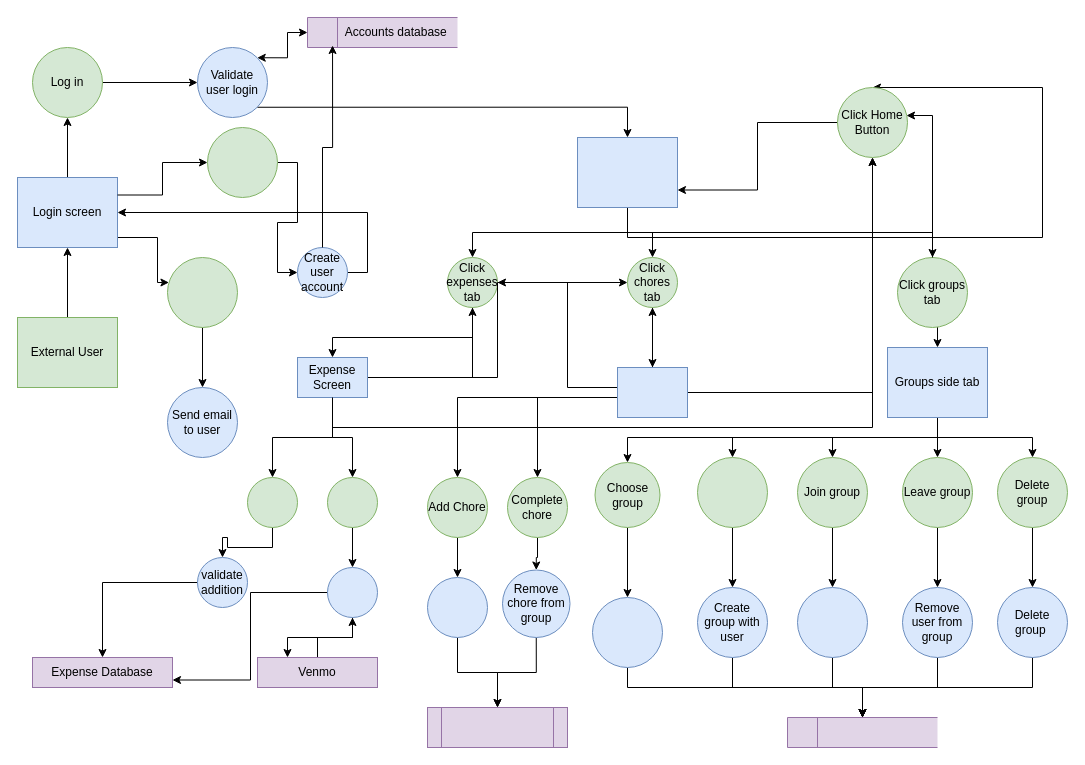
Image size: 1085x765. Some labels were removed from this diagram. Each missing label, with the box of its shape:
Add chore to group: (426, 576, 488, 638)
Add expense: (246, 476, 298, 528)
Add user to group: (796, 586, 868, 658)
Chore Database: (426, 706, 568, 748)
Chores Screen: (616, 366, 688, 418)
Create Account: (206, 126, 278, 198)
Create group: (696, 456, 768, 528)
Forgot password: (166, 256, 238, 328)
Groups database: (786, 716, 938, 748)
Homescreen: (576, 136, 678, 208)
Pay expense: (326, 476, 378, 528)
Update homepage with group: (592, 596, 662, 668)
Validate payment: (326, 566, 378, 618)
